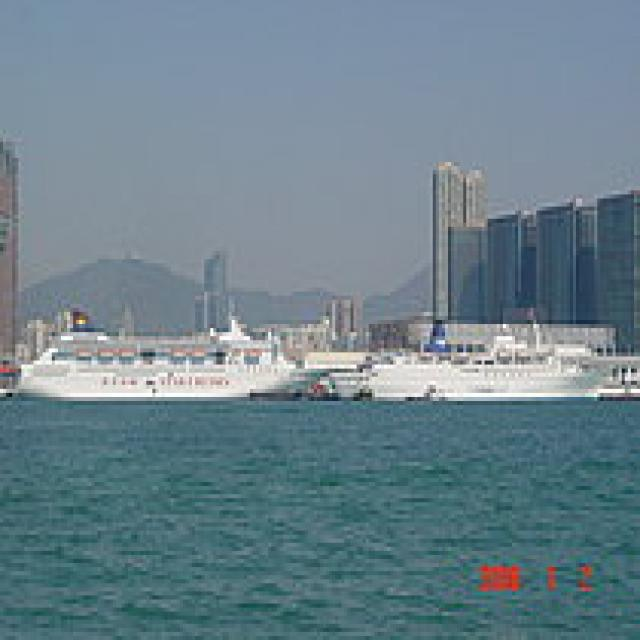Ship: (10, 301, 333, 423), (336, 313, 629, 427)
